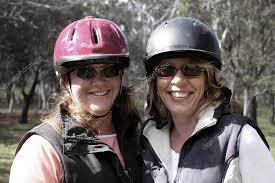helmet: (53, 16, 131, 118), (141, 16, 224, 107)
